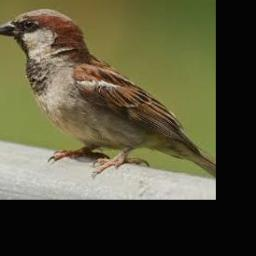Sparrow: (0, 8, 216, 178)
